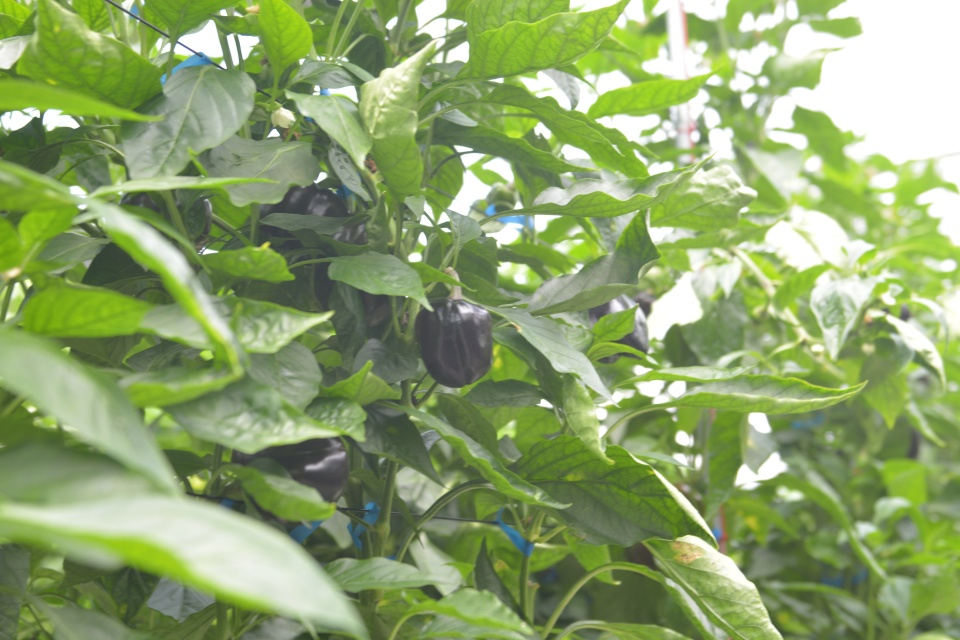flower: (268, 105, 298, 130)
fruit: (230, 434, 350, 534), (258, 181, 369, 272), (413, 294, 494, 389), (118, 187, 216, 246), (586, 290, 651, 364)
